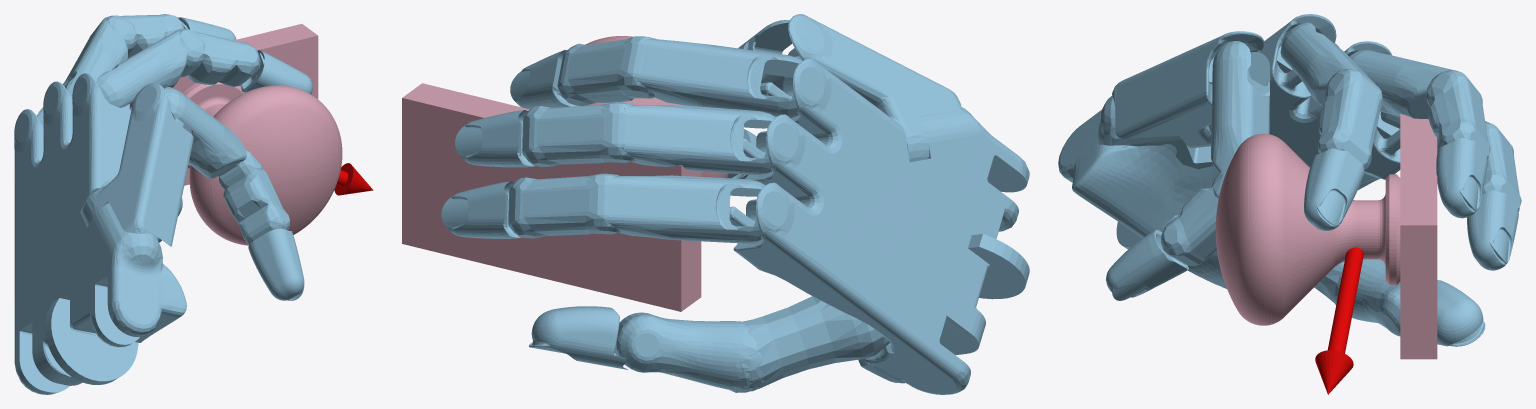
3 renders of one model, left to right at view 1: azimuth 30°, elevation 25°; view 2: azimuth 150°, elevation 25°; view 3: azimuth 270°, elevation 25°, orthographic. The views are drawn at different scales.
Parts seen in each view (by area): view 1: world, door_knob.stl; view 2: world, door_knob.stl; view 3: world, door_knob.stl.
Boxes of the visible parts, box(x1,y1,x2,y2) form: world: box(14, 14, 373, 394); door_knob.stl: box(130, 24, 342, 245); world: box(441, 14, 1029, 394); door_knob.stl: box(402, 36, 728, 311); world: box(1058, 14, 1521, 394); door_knob.stl: box(1215, 114, 1437, 359).
Size of the model in its own units: 0.1782 by 0.1192 by 0.1569.
